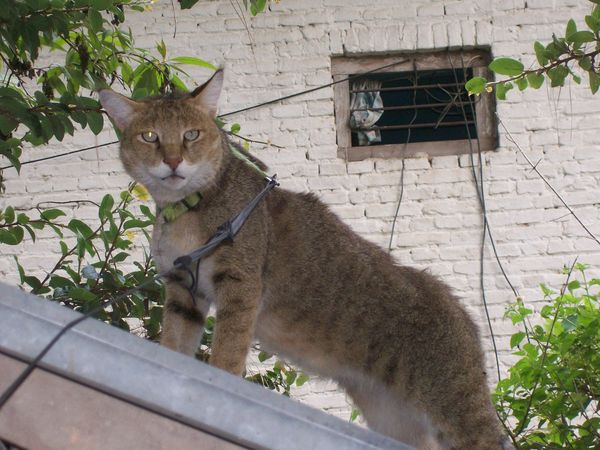cat: (85, 59, 544, 450)
